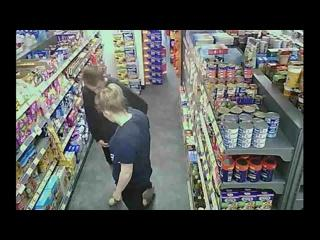shoplifting: (94, 83, 155, 210), (80, 66, 148, 166)
